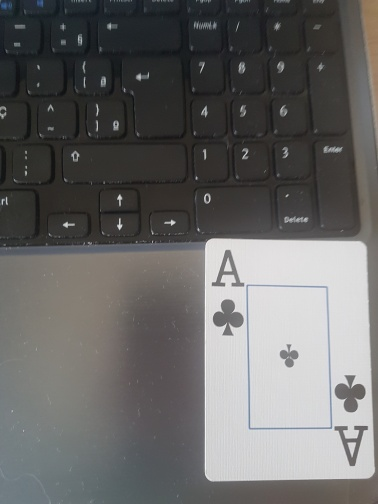ace: (205, 237, 376, 481)
